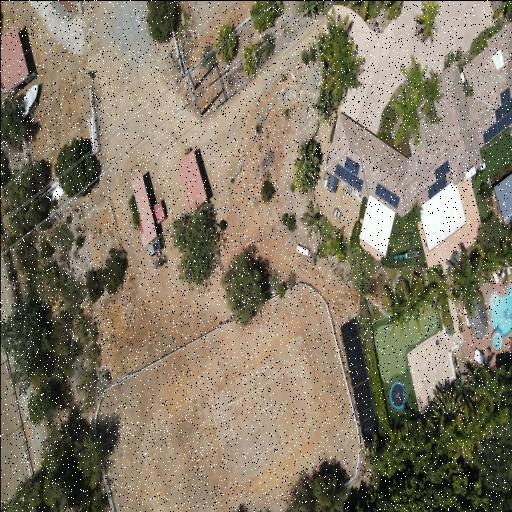solar-panel: (340, 315, 381, 449), (482, 86, 512, 144), (334, 155, 363, 191), (427, 159, 449, 199), (374, 182, 399, 208)
